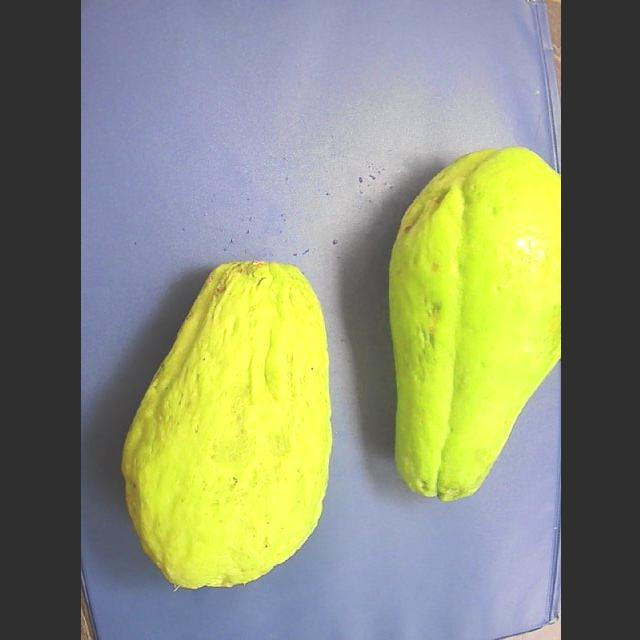chayote: (122, 262, 331, 586), (388, 148, 560, 501)
